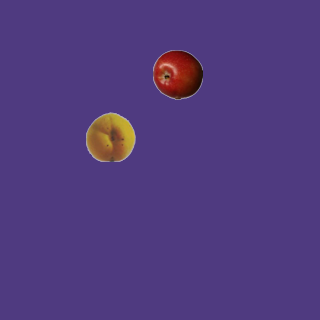Apple Braeburn: (152, 49, 202, 99)
Peach 2: (85, 111, 135, 161)
